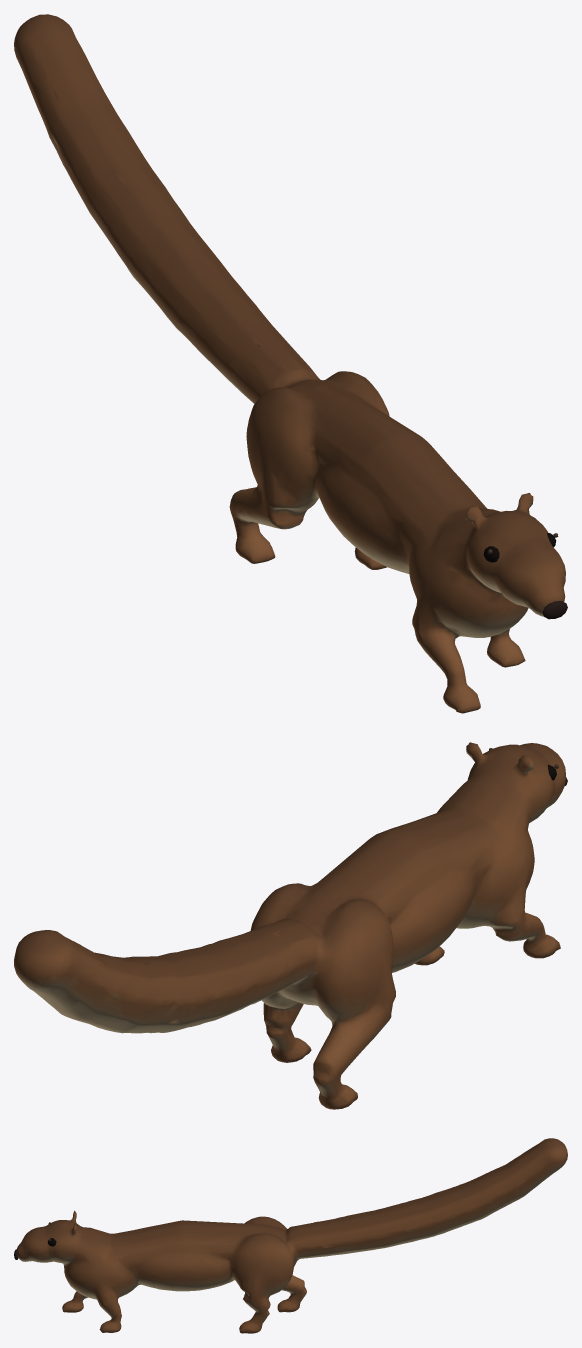
Rendered from AiluravusMacrurus.fbx.
The picture shows the model from 3 angles, top to bottom: view 1: azimuth 30°, elevation 25°; view 2: azimuth 150°, elevation 25°; view 3: azimuth 270°, elevation 25°; orthographic projection. The views are drawn at different scales.
Parts seen in each view (by area): view 1: AiluravusMacrurus; view 2: AiluravusMacrurus; view 3: AiluravusMacrurus.
Boxes of the visible parts, x1,y1,x2,y2 form: AiluravusMacrurus: [14, 14, 567, 713]; AiluravusMacrurus: [14, 742, 567, 1109]; AiluravusMacrurus: [14, 1138, 567, 1333].
Size of the model in its own units: 0.2017 by 0.5308 by 1.46.
